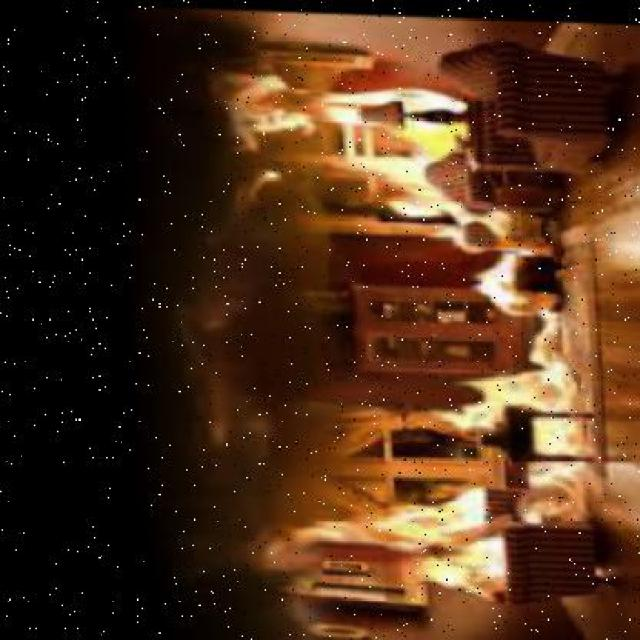fire: (259, 75, 533, 584)
